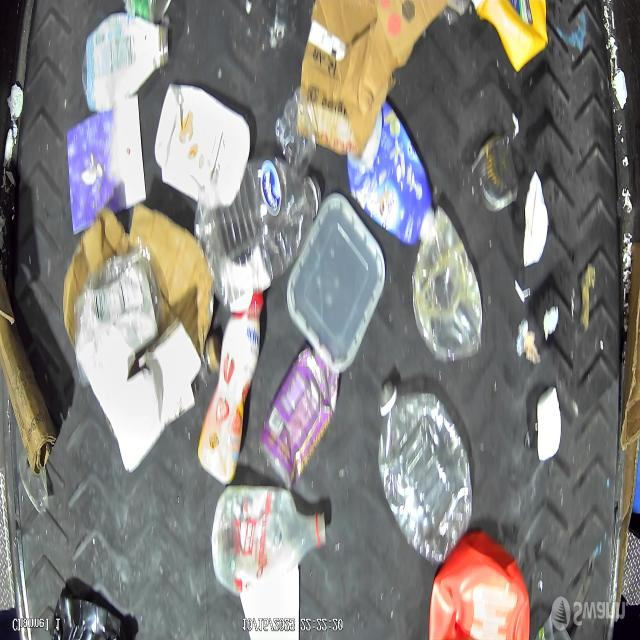can: (470, 134, 519, 213), (122, 1, 176, 25)
non_white_jug: (155, 82, 250, 208), (429, 532, 534, 640), (471, 0, 549, 73)
plastic_bottle: (196, 159, 320, 308), (381, 383, 473, 565), (213, 484, 328, 590), (414, 207, 484, 360)
